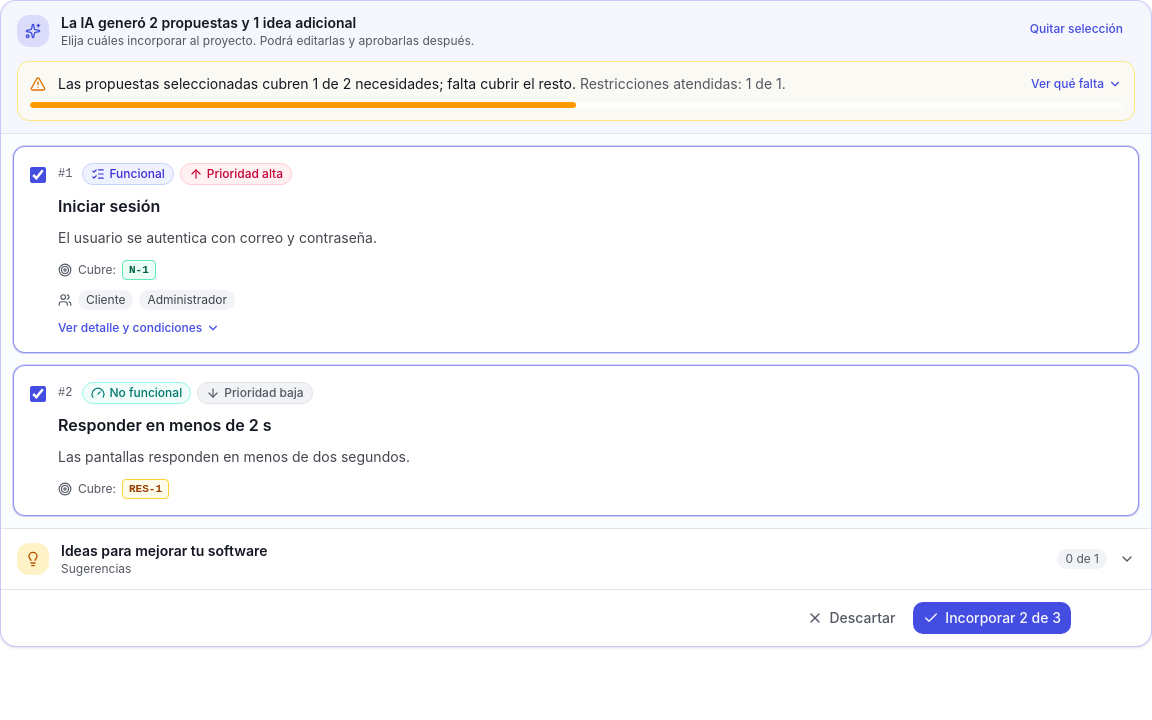
Test: Requirement proposals against the project context › shows which context items each proposal covers and what is still missing
Expected: the text titled "Necesidad: Texto de N-1" is shown, [129,264,149,276]
Expected: the text "cubren 1 de 2 necesidades; falta cubrir el resto" is shown, [58,75,786,92]
Click the button "Ver qué falta": point(1076, 84) [1031,76,1122,92]
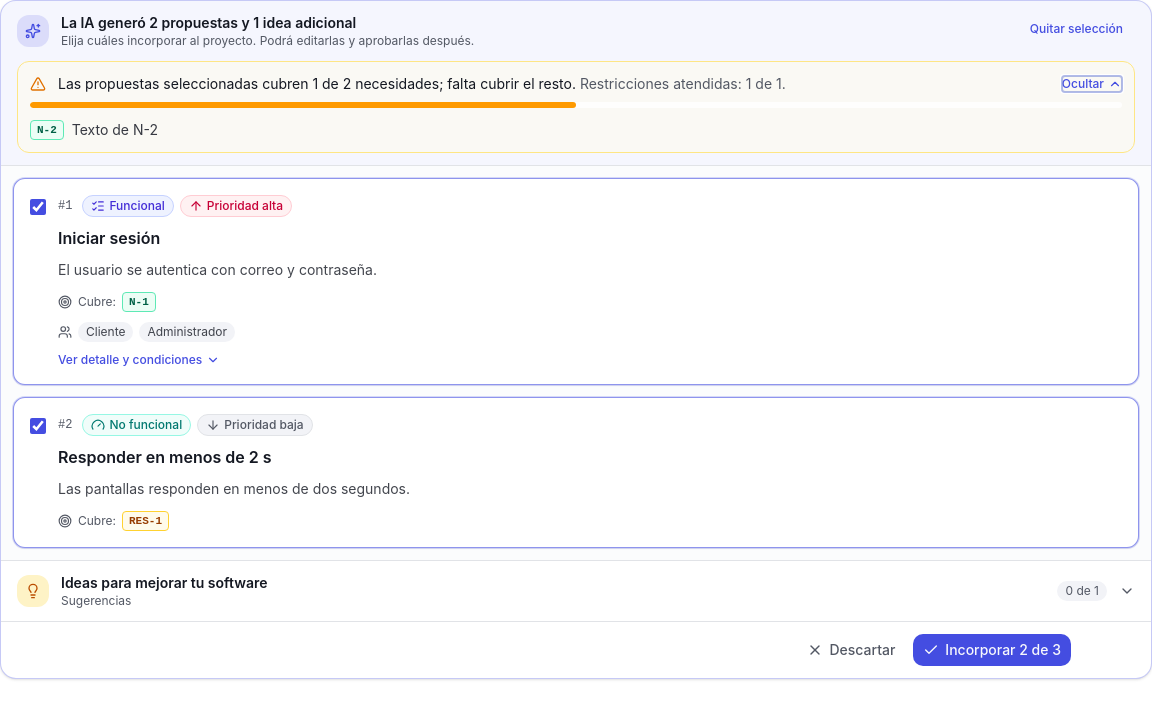
Expected: the list named "Elementos del contexto sin cubrir" does not show "Texto de N-1", [30,120,158,140]
Result: the list named "Elementos del contexto sin cubrir" shows "Texto de N-2" at [72,121,158,138]
The summary follows the selection.
Click the checkbox named "Incorporar Iniciar sesión": point(38, 207) [30,199,46,215]
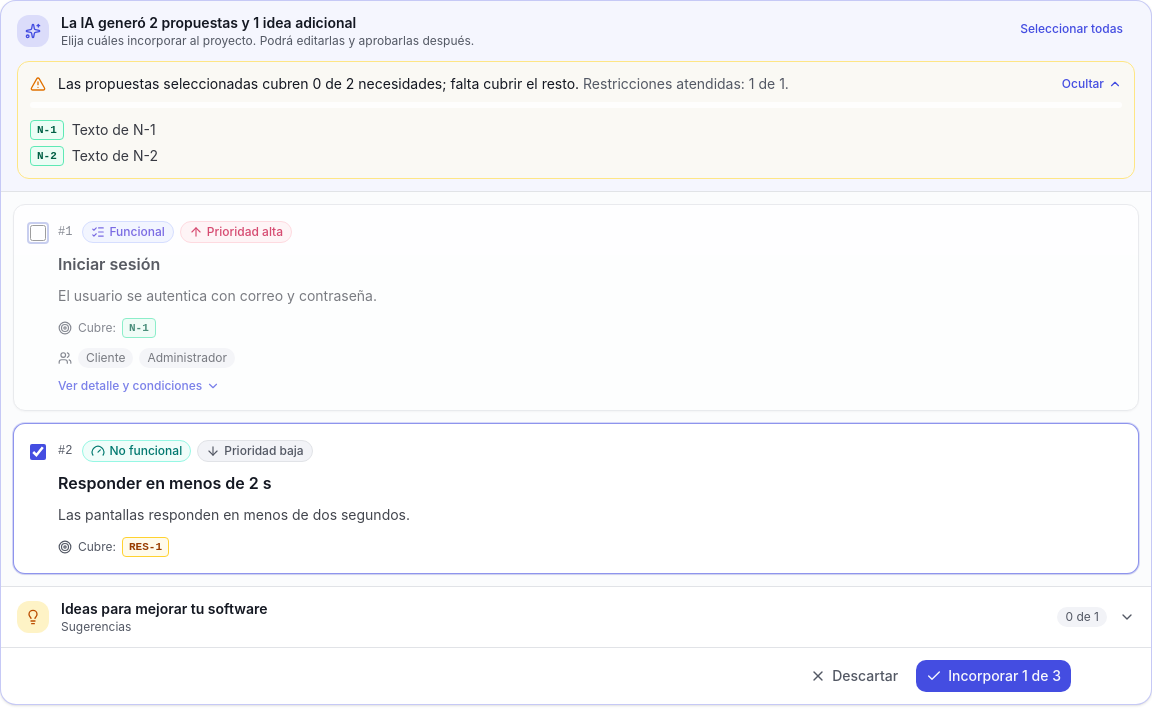
Result: the text "cubren 0 de 2 necesidades" is shown at [58,75,789,92]
